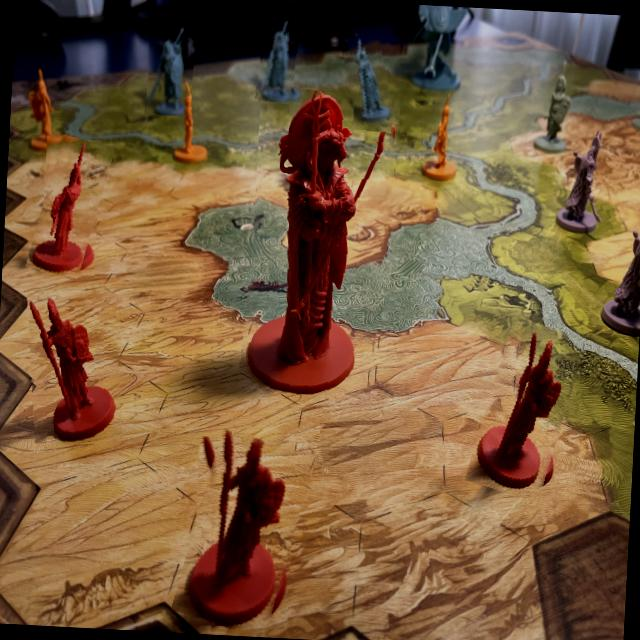amon: (242, 86, 398, 399)
amon_follower: (180, 432, 308, 634), (473, 318, 579, 501), (23, 288, 126, 446), (32, 136, 108, 280)
isis_follower: (340, 31, 396, 130), (146, 23, 196, 117), (256, 16, 300, 104)
